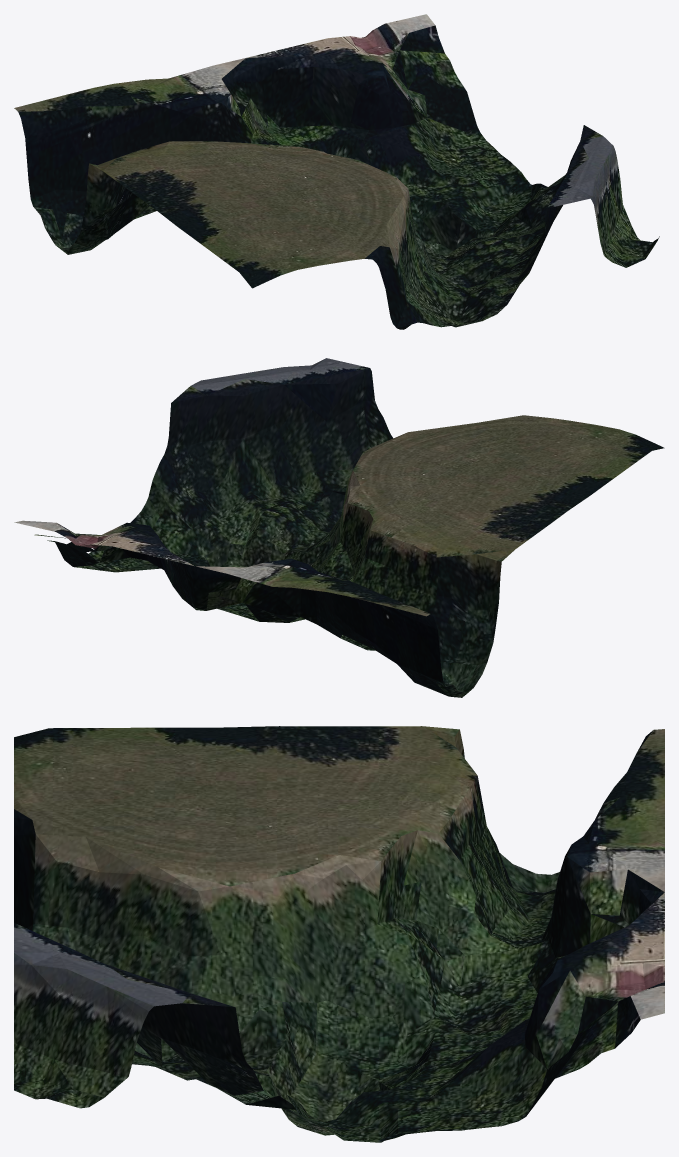
File: map_15_8179_13789.dae
3 views of the same model, one above another, from view 1: azimuth 30°, elevation 25°; view 2: azimuth 150°, elevation 25°; view 3: azimuth 270°, elevation 25° (orthographic). The views are drawn at different scales.
Parts seen in each view (by area): view 1: Ter0; view 2: Ter0; view 3: Ter0.
Part boxes in pixels (<box>): Ter0: <box>14,14,659,329</box>; Ter0: <box>14,358,664,697</box>; Ter0: <box>14,726,664,1142</box>.
Size of the model in its own units: 63.87 by 63.88 by 21.79.
Materials: 3 (3 with a texture image).
